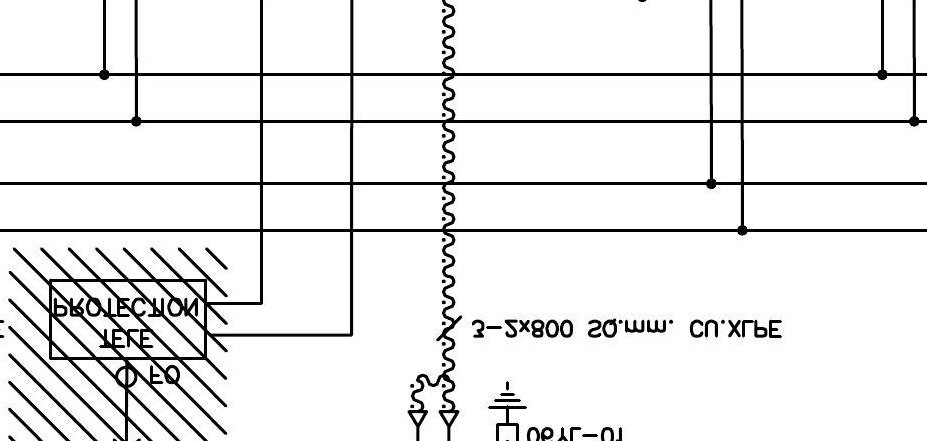tele_protection: (46, 276, 210, 363)
